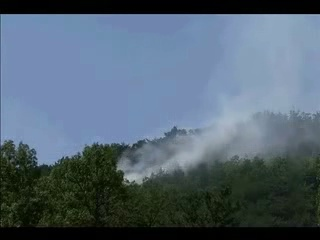smoke: (191, 15, 320, 165), (114, 120, 190, 183)
